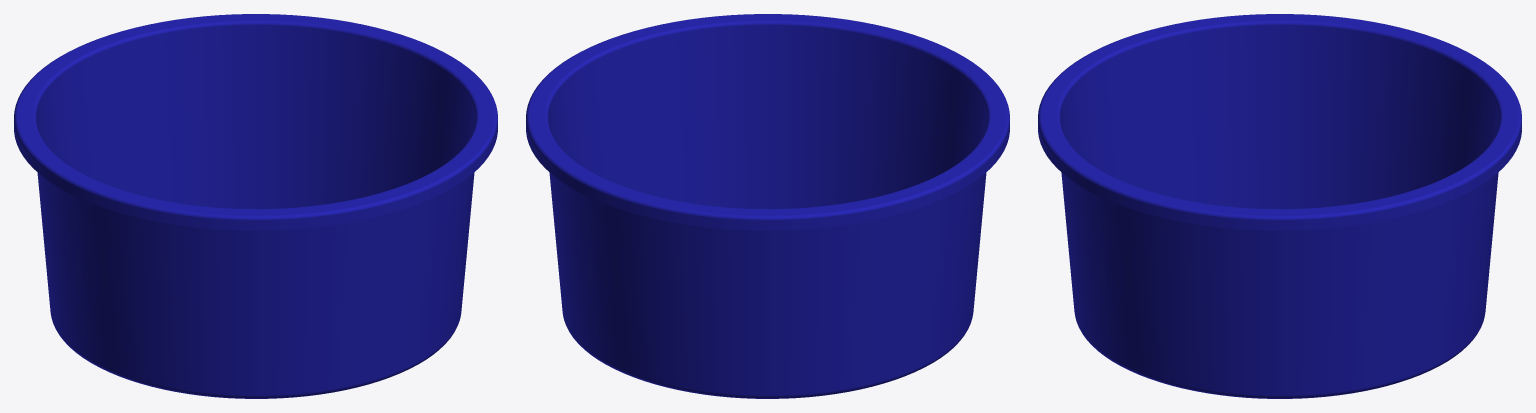
The model's file is Drum_Blue.obj.
3 renders of one model, left to right at view 1: azimuth 30°, elevation 25°; view 2: azimuth 150°, elevation 25°; view 3: azimuth 270°, elevation 25°, orthographic.
Visible parts, largest first — view 1: Solid1; view 2: Solid1; view 3: Solid1.
Part boxes in pixels (x1,y1,x2,y2): Solid1: (14, 14, 497, 398); Solid1: (526, 14, 1009, 398); Solid1: (1038, 14, 1521, 398).
Bounding box in the file's own units: 0.66 × 0.3 × 0.6597.
